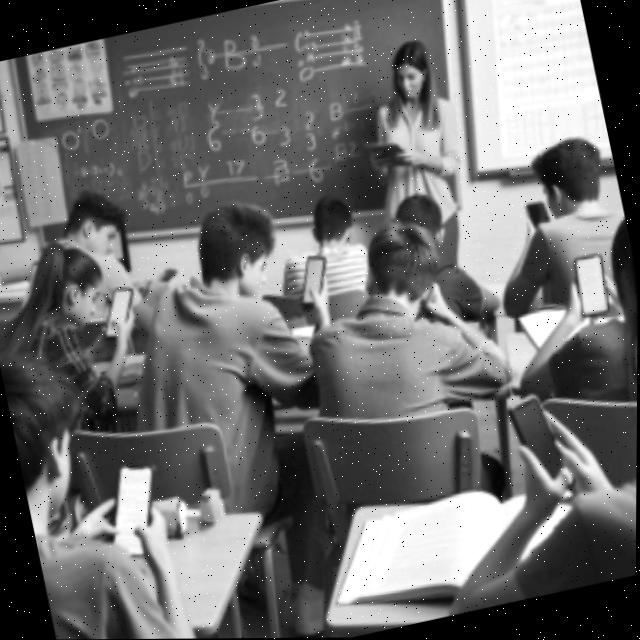phone: (496, 384, 586, 500), (95, 454, 174, 563), (565, 246, 615, 319), (95, 282, 141, 340), (291, 249, 334, 308), (135, 261, 181, 300), (521, 195, 555, 234), (156, 264, 177, 282)
